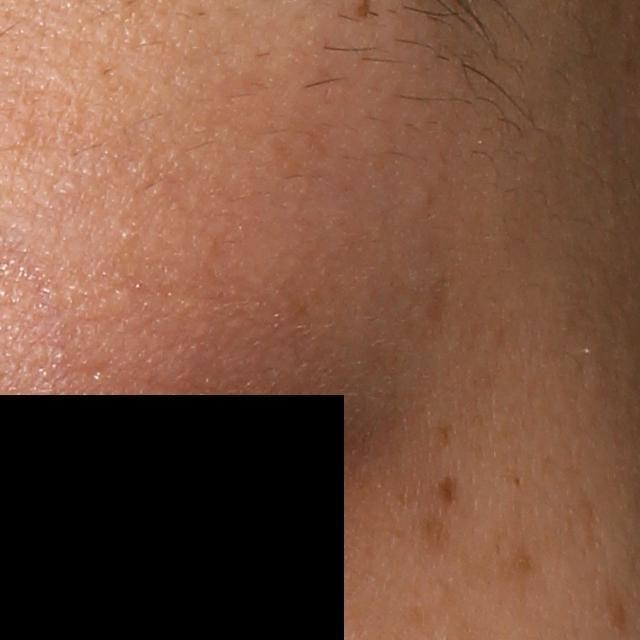melasma: (605, 574, 631, 640), (412, 520, 450, 553)
